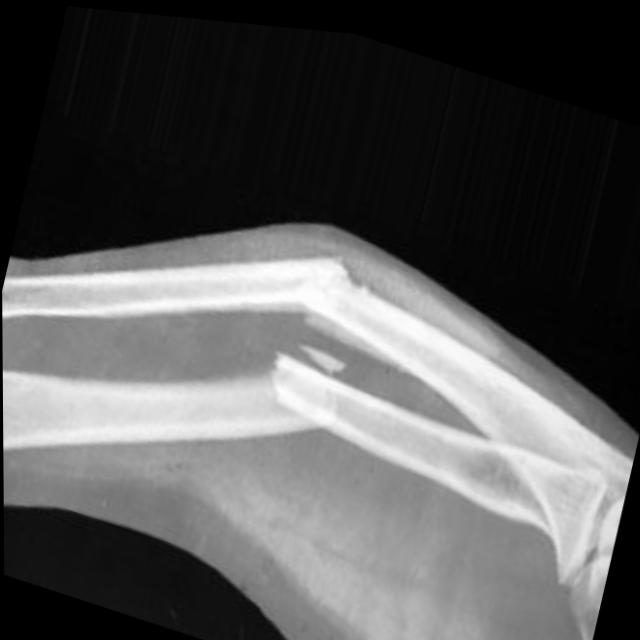fracture: (242, 325, 348, 459), (302, 227, 372, 338)
